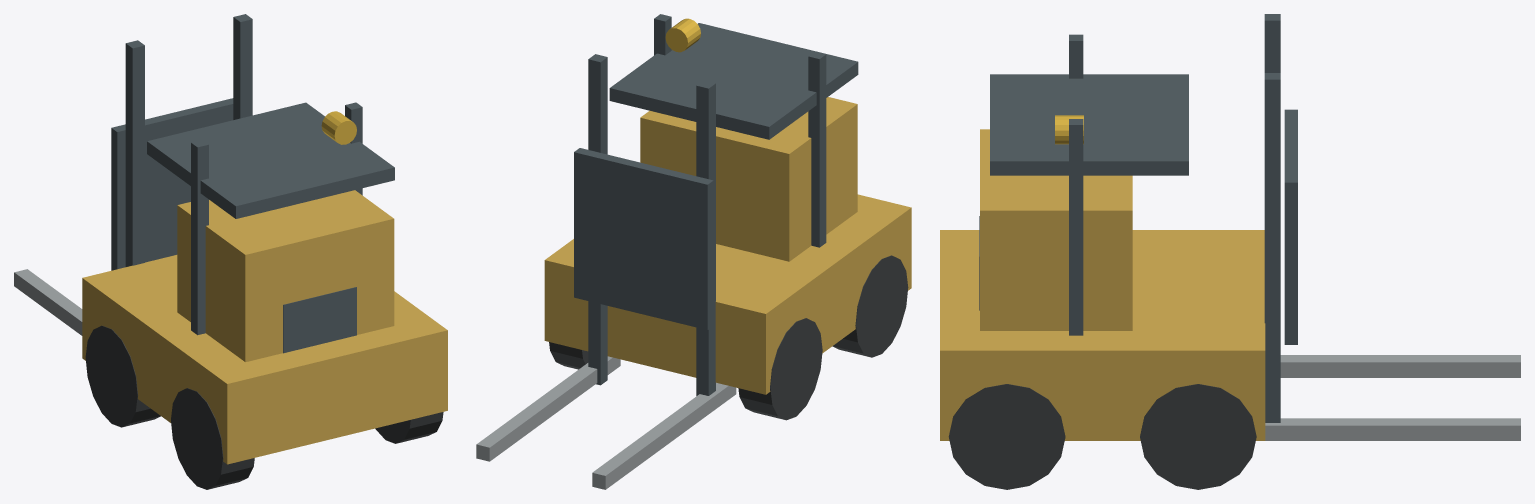
Rendered from forklift.glb.
The picture shows the model from 3 angles, left to right: view 1: azimuth 30°, elevation 25°; view 2: azimuth 150°, elevation 25°; view 3: azimuth 270°, elevation 25°; orthographic projection. The views are drawn at different scales.
Visible parts, largest first — view 1: body, engine, roof, backrest, fw-0.920.72, mast-0.75, fw-0.92-0.72, seat, guard-0.75, mast0.75, fork-0.75, fw0.920.72 (+2 smaller); view 2: body, backrest, engine, roof, fw-0.92-0.72, fw-0.920.72, mast-0.75, fork-0.75, mast0.75, fork0.75, guard-0.75, beacon (+2 smaller); view 3: body, engine, roof, fw0.92-0.72, fw0.920.72, mast0.75, fork0.75, fork-0.75, backrest, guard0.75, mast-0.75, guard-0.75.
Part boxes in pixels (left/top/right/bottom): body: left=82, top=255, right=447, bottom=464; engine: left=177, top=190, right=394, bottom=362; roof: left=147, top=102, right=394, bottom=218; backrest: left=111, top=98, right=233, bottom=270; fw-0.920.72: left=171, top=388, right=254, bottom=489; mast-0.75: left=125, top=40, right=144, bottom=266; fw-0.92-0.72: left=85, top=325, right=160, bottom=427; seat: left=283, top=287, right=356, bottom=353; guard-0.75: left=191, top=140, right=208, bottom=335; mast0.75: left=233, top=14, right=252, bottom=119; fork-0.75: left=14, top=269, right=82, bottom=335; fw0.920.72: left=375, top=412, right=443, bottom=443; body: left=544, top=194, right=911, bottom=394; backrest: left=574, top=148, right=713, bottom=329; engine: left=640, top=97, right=857, bottom=261; roof: left=609, top=23, right=858, bottom=139; fw-0.92-0.72: left=738, top=318, right=822, bottom=420; fw-0.920.72: left=832, top=255, right=908, bottom=357; mast-0.75: left=696, top=80, right=715, bottom=395; fork-0.75: left=592, top=382, right=736, bottom=489; mast0.75: left=588, top=54, right=607, bottom=385; fork0.75: left=476, top=356, right=620, bottom=461; guard-0.75: left=808, top=51, right=826, bottom=247; beacon: left=665, top=18, right=700, bottom=52; body: left=940, top=230, right=1265, bottom=440; engine: left=980, top=129, right=1132, bottom=330; roof: left=990, top=74, right=1188, bottom=175; fw0.92-0.72: left=1140, top=384, right=1256, bottom=489; fw0.920.72: left=948, top=384, right=1065, bottom=489; mast0.75: left=1264, top=73, right=1280, bottom=422; fork0.75: left=1265, top=418, right=1520, bottom=440; fork-0.75: left=1280, top=355, right=1520, bottom=377; backrest: left=1284, top=109, right=1297, bottom=344; guard0.75: left=1069, top=119, right=1083, bottom=335; mast-0.75: left=1264, top=14, right=1280, bottom=72; guard-0.75: left=1069, top=34, right=1083, bottom=78.
Bounding box in the file's own units: 2.16 × 3.18 × 4.38.
